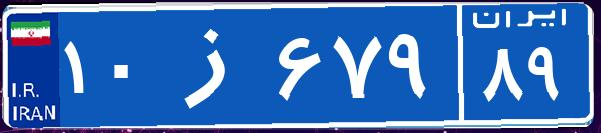0: (110, 28, 158, 105)
1: (57, 26, 110, 107)
6: (273, 28, 330, 110)
7: (330, 28, 385, 110)
8: (475, 38, 525, 113)
9: (385, 28, 445, 110), (525, 38, 570, 115)
ز: (158, 15, 273, 115)
